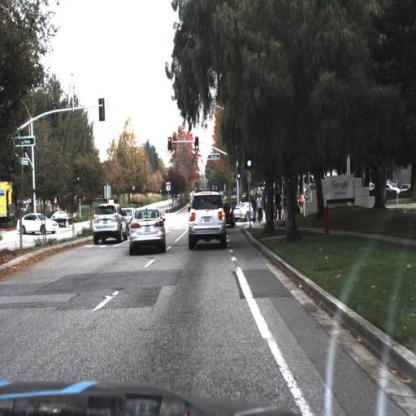car: (189, 190, 226, 250), (130, 206, 167, 256), (93, 202, 129, 242), (15, 214, 60, 233), (235, 201, 260, 223), (52, 210, 79, 227), (233, 201, 253, 222), (222, 202, 237, 228)
pedestrian: (257, 191, 264, 224), (257, 195, 265, 223)
trafficLight-Green: (194, 136, 201, 152)
trafficLight-RedLeft: (167, 135, 175, 153), (76, 173, 83, 193), (168, 137, 173, 153)
truck: (1, 178, 15, 223)
